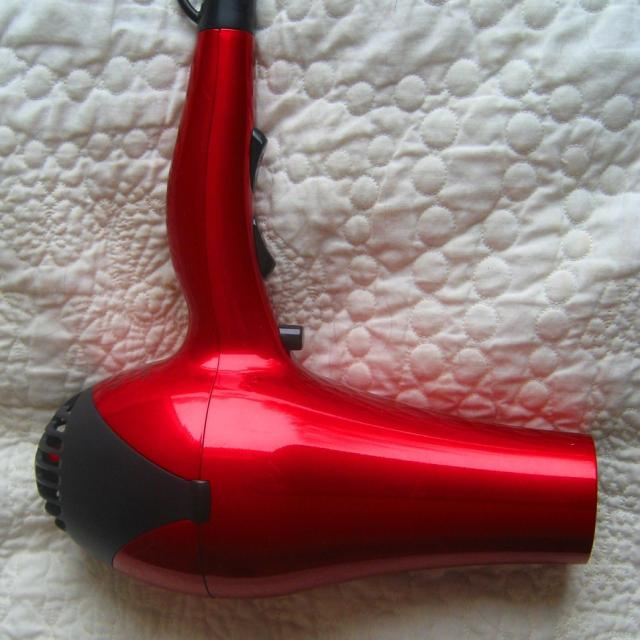dryer: (28, 13, 610, 619)
